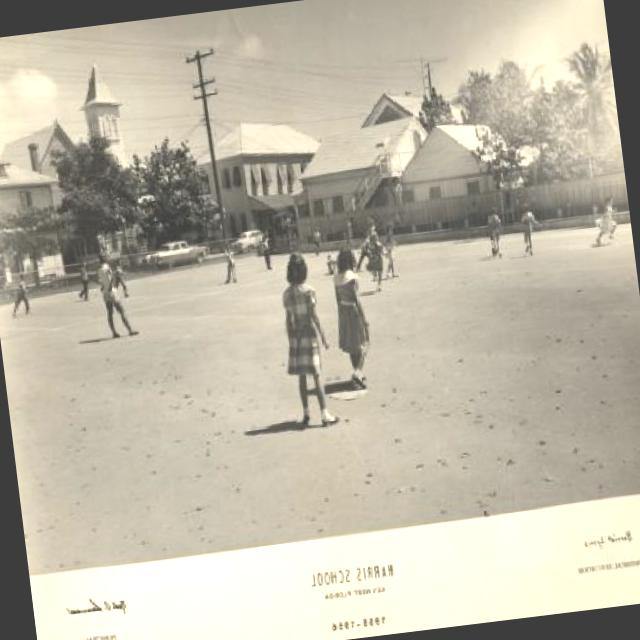Person: (271, 244, 336, 432), (320, 241, 378, 394), (91, 252, 140, 341), (351, 215, 386, 292), (588, 188, 620, 242), (6, 274, 42, 318), (514, 202, 542, 257), (108, 257, 136, 302), (378, 222, 400, 278), (250, 230, 276, 274), (484, 209, 505, 255), (73, 256, 94, 302), (216, 243, 236, 285), (324, 250, 338, 279), (306, 229, 324, 249)
